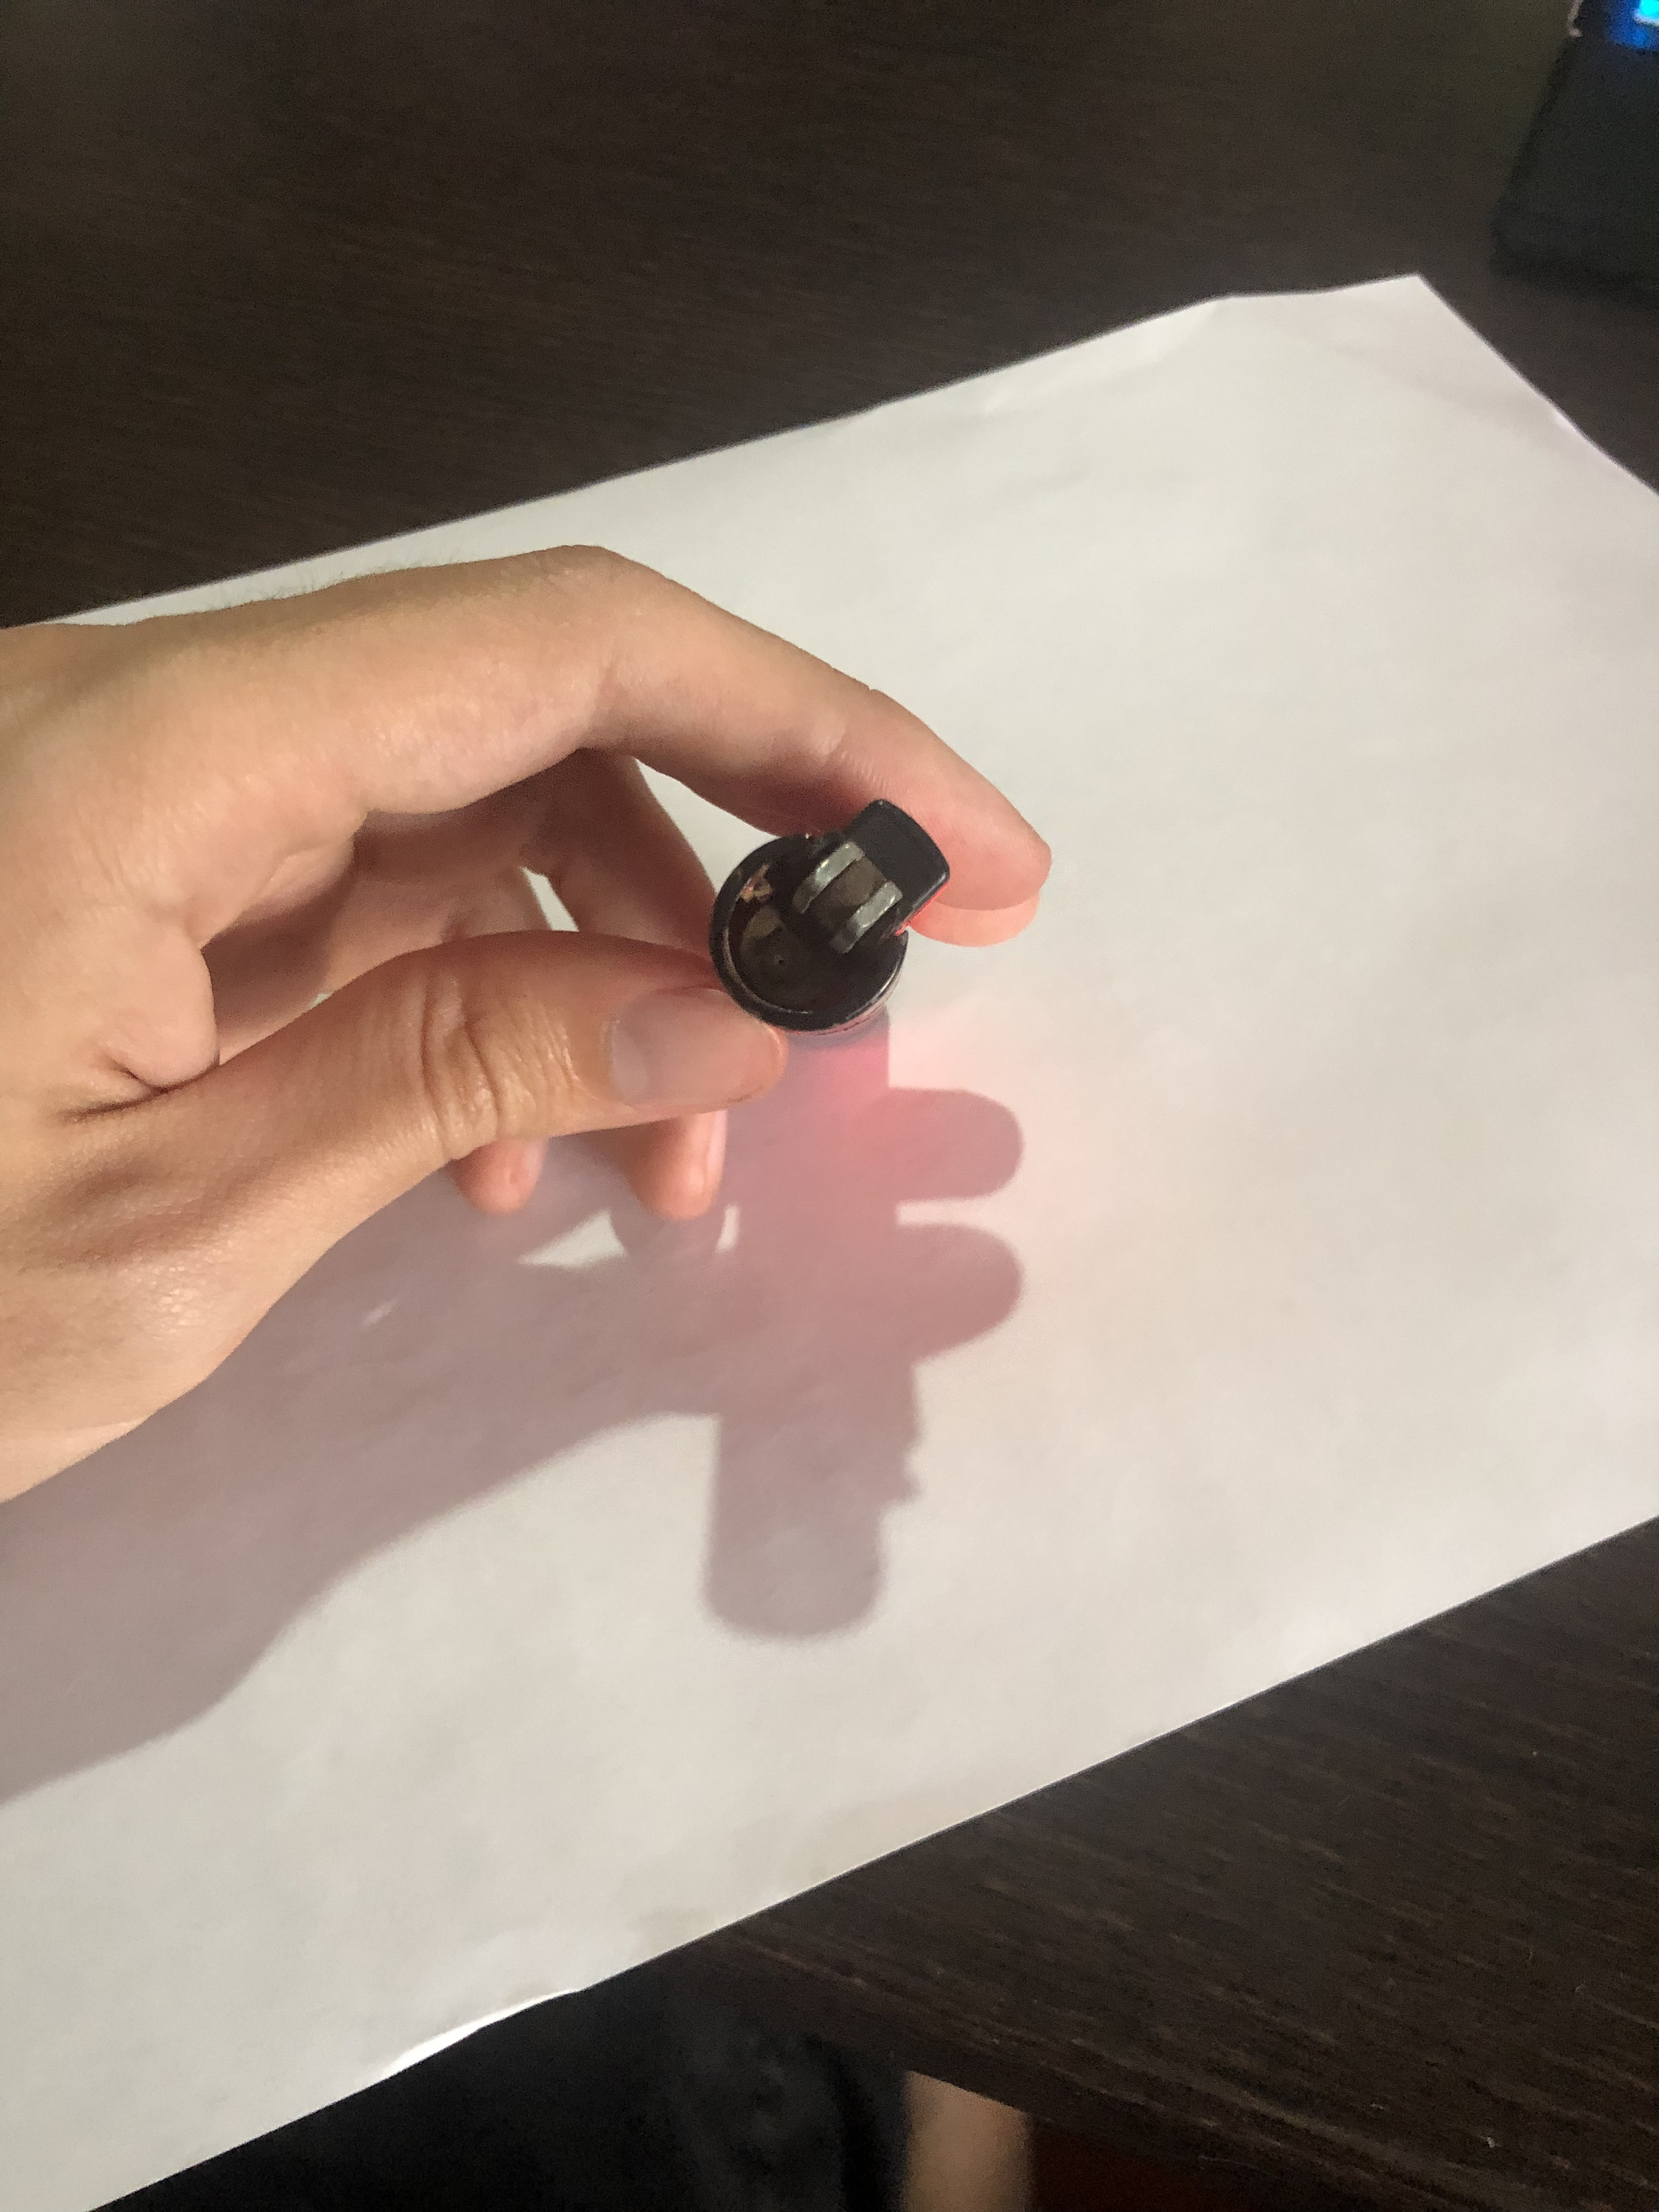Mechero: (685, 786, 979, 1101)
